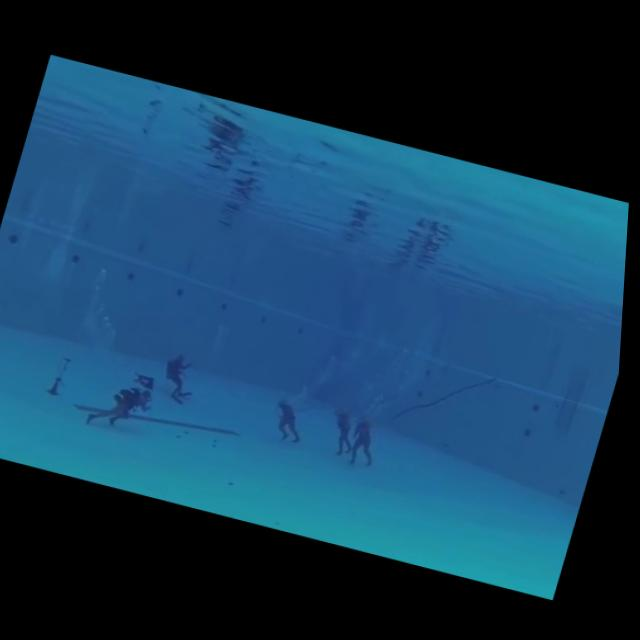human: (81, 370, 166, 443), (152, 339, 214, 413), (344, 402, 398, 473), (265, 389, 323, 450), (322, 393, 373, 461)
